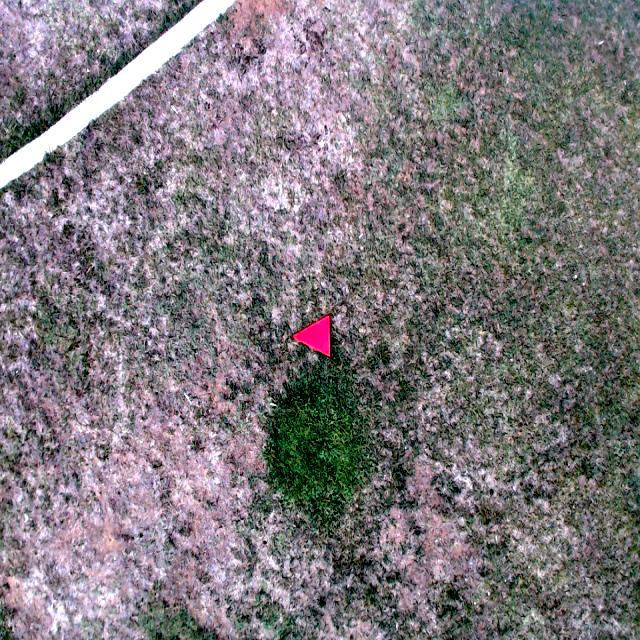red_triangle: (293, 313, 331, 354)
